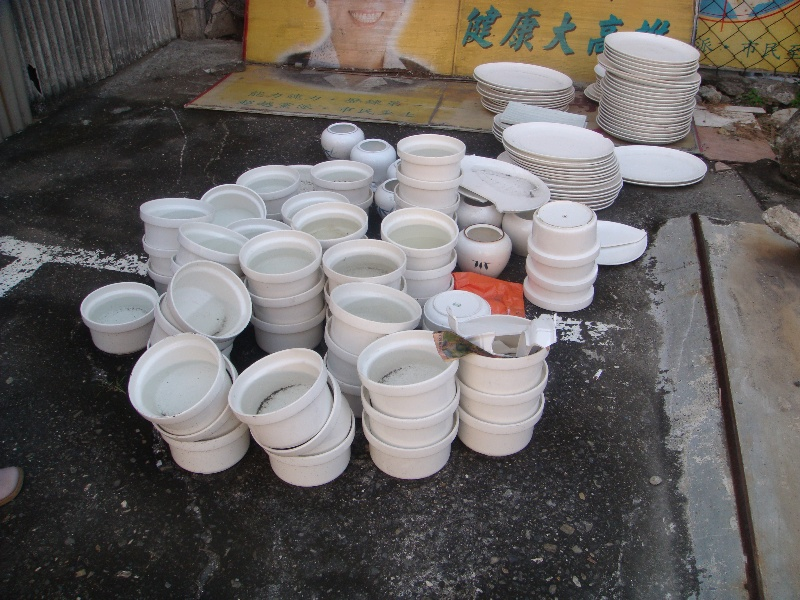bowl: (226, 346, 334, 451), (126, 329, 231, 436), (354, 328, 460, 420), (453, 313, 547, 396), (161, 258, 252, 341), (325, 280, 423, 355), (361, 406, 459, 479), (78, 279, 162, 356), (268, 414, 355, 488), (236, 229, 323, 297), (457, 393, 545, 456), (320, 236, 407, 299), (377, 204, 459, 270), (528, 198, 601, 271), (161, 422, 249, 474), (288, 197, 368, 253), (137, 195, 216, 250), (172, 220, 250, 273), (233, 163, 302, 214), (196, 181, 267, 230), (395, 133, 466, 181), (455, 222, 512, 279), (348, 137, 397, 183), (317, 122, 366, 162)
plate: (452, 153, 551, 215), (499, 120, 615, 162), (604, 143, 707, 185), (471, 59, 574, 93), (602, 30, 701, 64), (423, 289, 490, 328), (496, 99, 587, 126)
